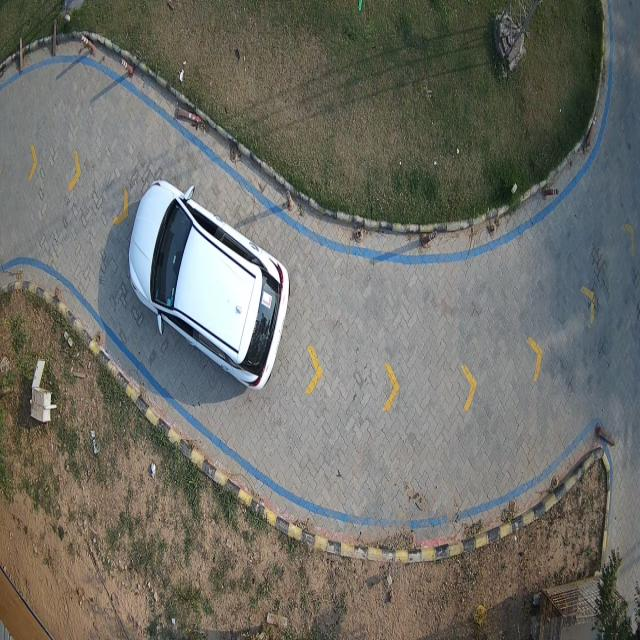car: (129, 180, 289, 388)
